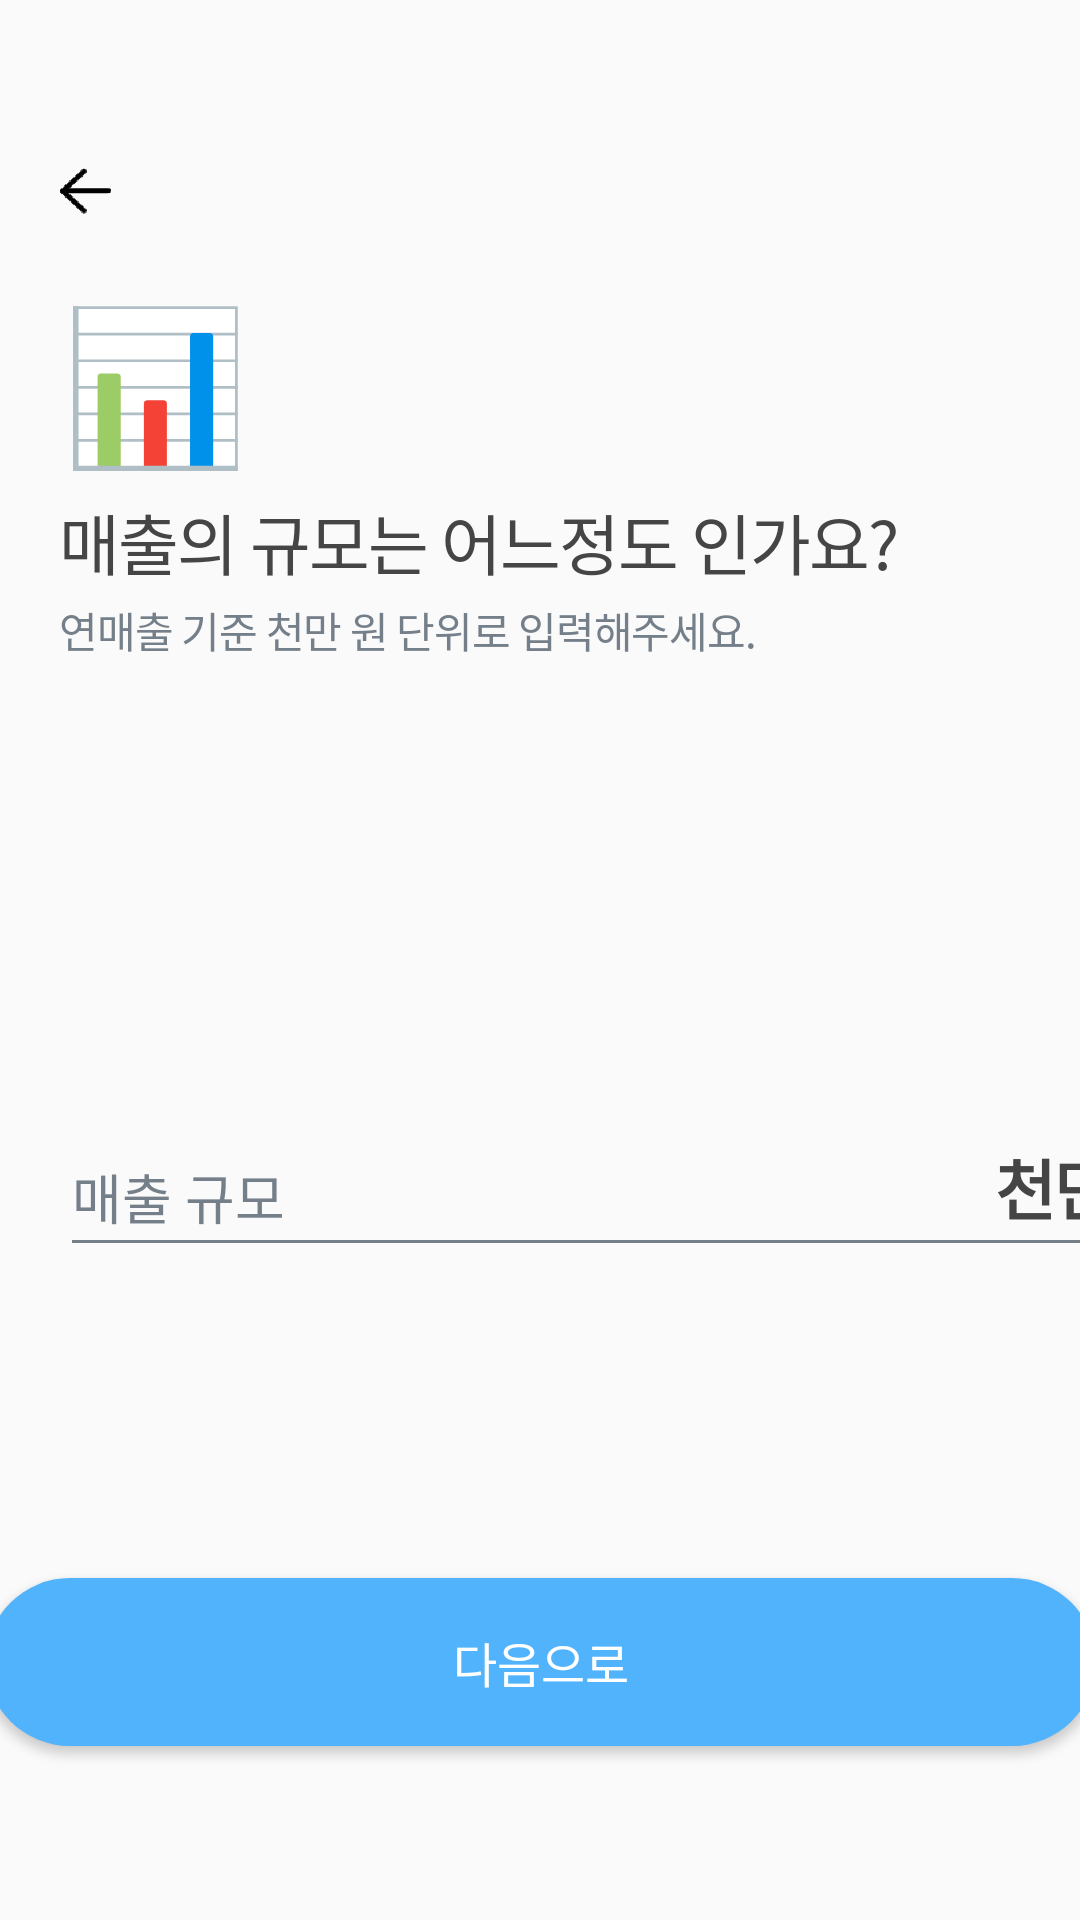

Locate icon controls on the screen. Image size 1080*1920, boxes as (x1, y1, x2, y2).
before: (60, 168, 111, 214)
